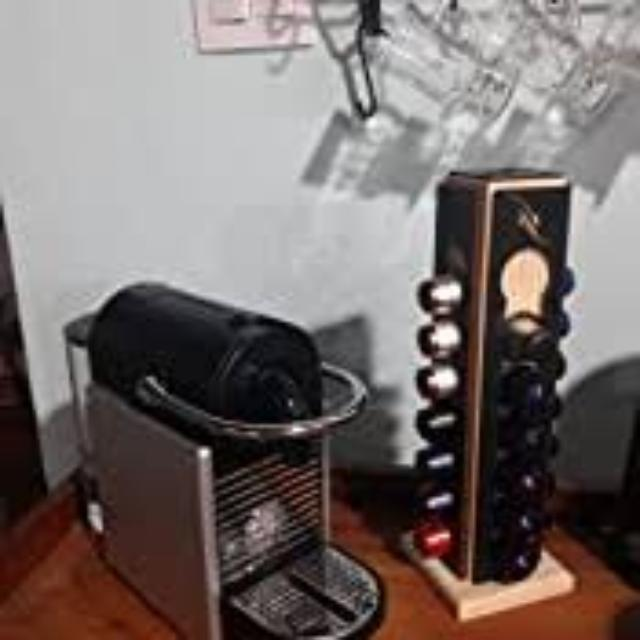Coffee-Machine: (61, 276, 391, 640)
